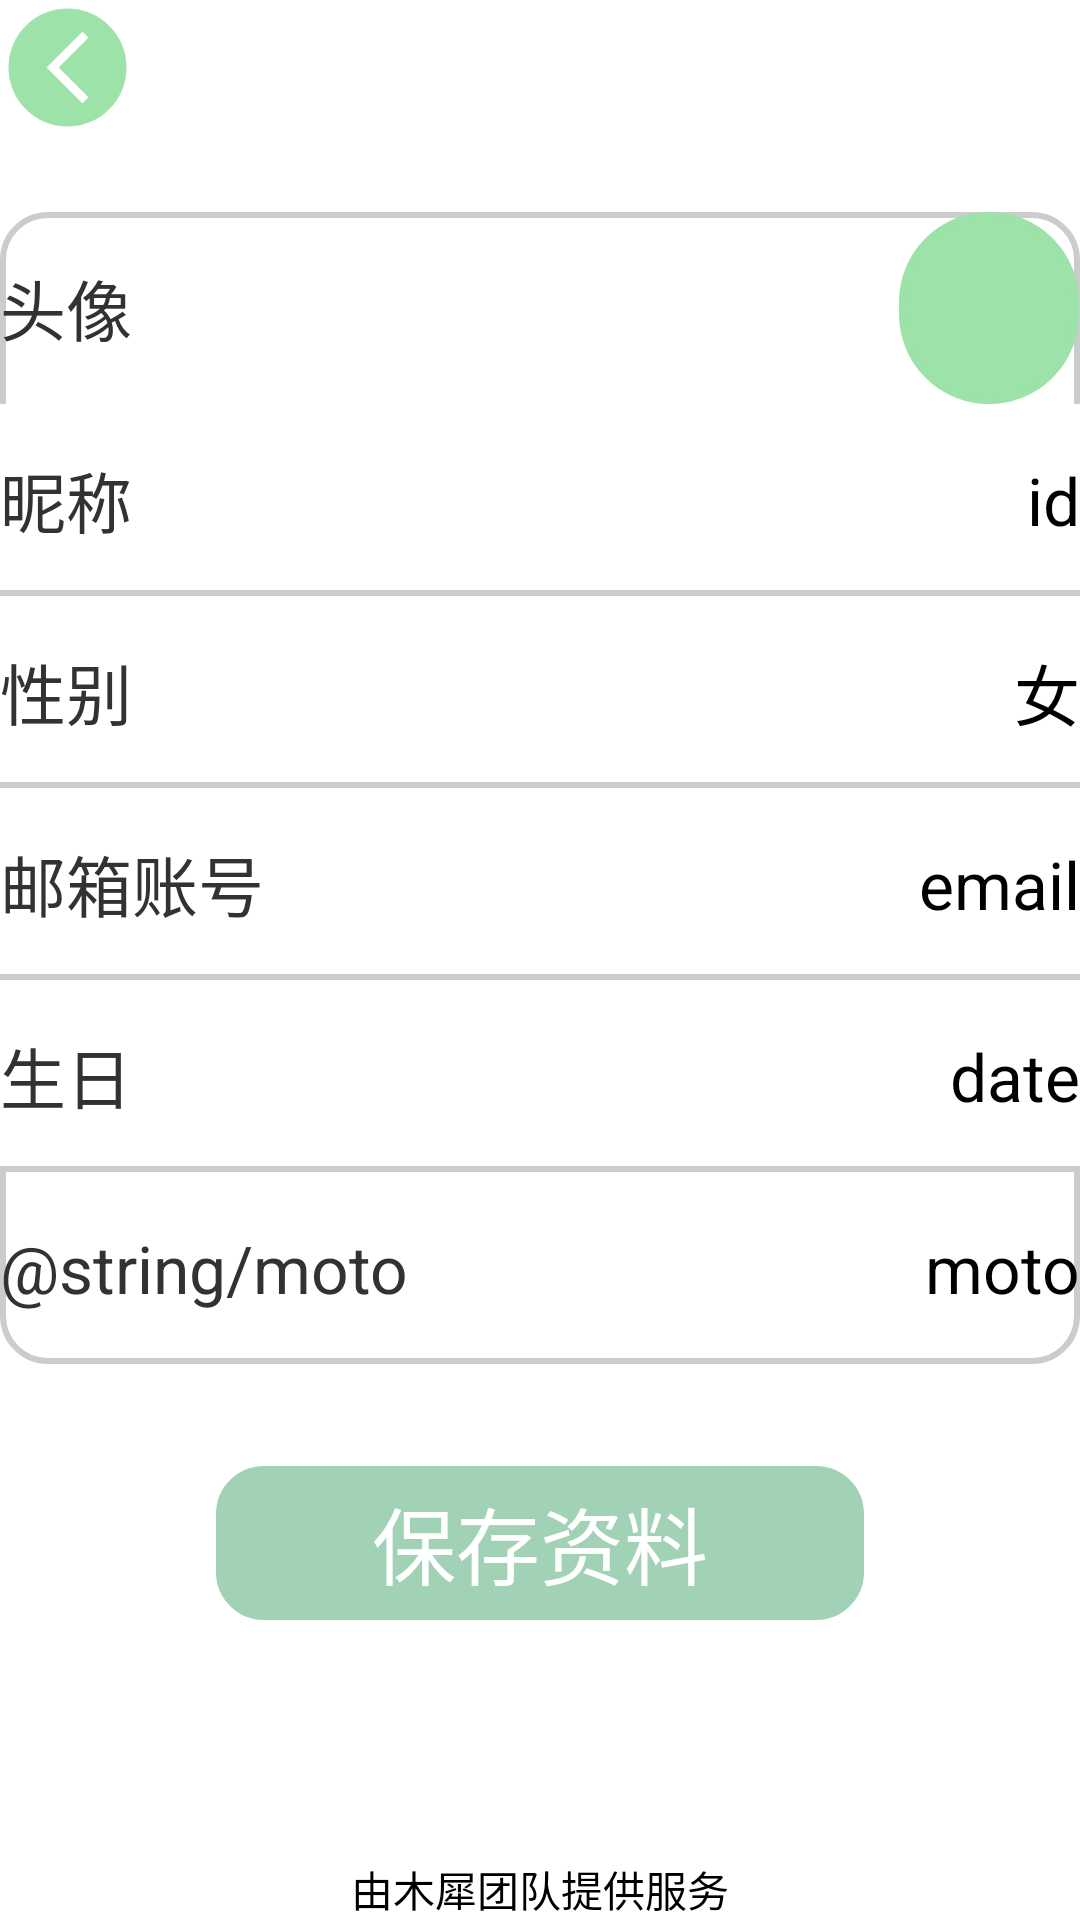

Named icons in this screenshot (1080×1920) and their centers, (x,y):
arrow back mypage: (67,67)
